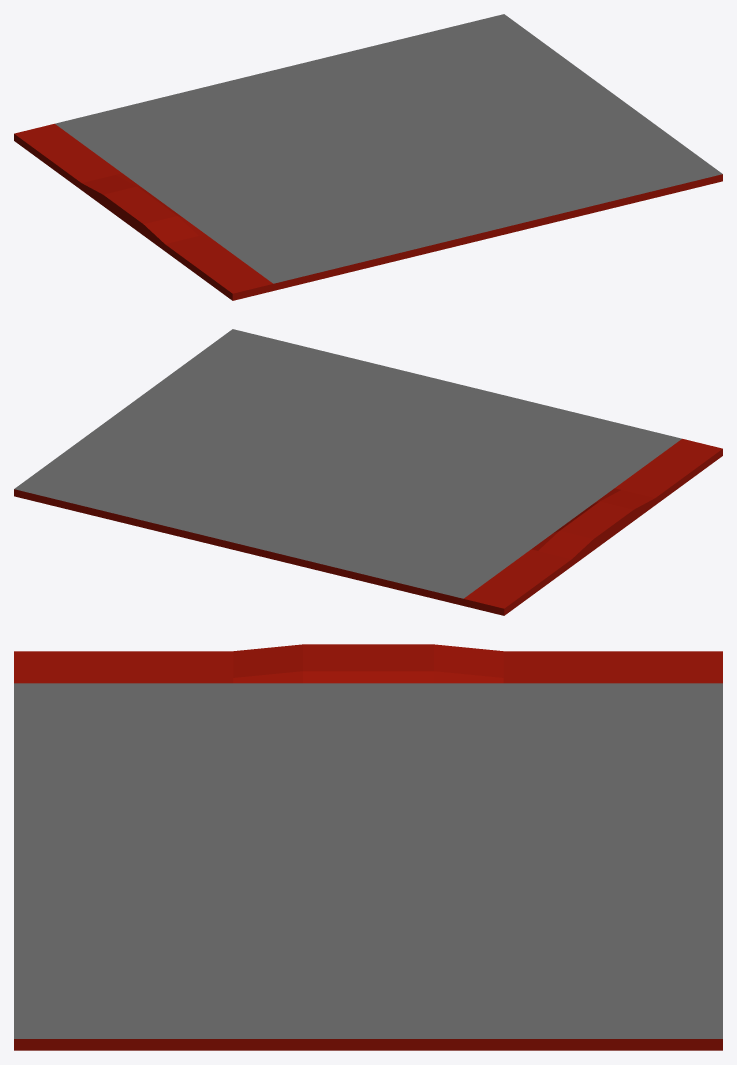
Rendered from ClipBoard.fbx.
3 renders of one model, top to bottom at view 1: azimuth 30°, elevation 25°; view 2: azimuth 150°, elevation 25°; view 3: azimuth 270°, elevation 25°, orthographic. The views are drawn at different scales.
Parts seen in each view (by area): view 1: Cube; view 2: Cube; view 3: Cube.
Boxes of the visible parts, box(x1,y1,x2,y2) form: Cube: box(14, 14, 722, 300); Cube: box(14, 329, 722, 615); Cube: box(14, 644, 722, 1050).
Size of the model in its own units: 221 by 4.92 by 171.
